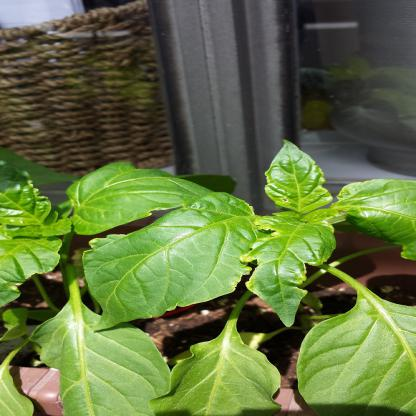bell pepper leaf: (79, 191, 255, 327), (29, 304, 165, 416), (63, 154, 226, 229), (312, 298, 415, 413), (163, 321, 281, 416), (243, 223, 338, 327), (250, 139, 341, 214), (332, 178, 415, 254)
